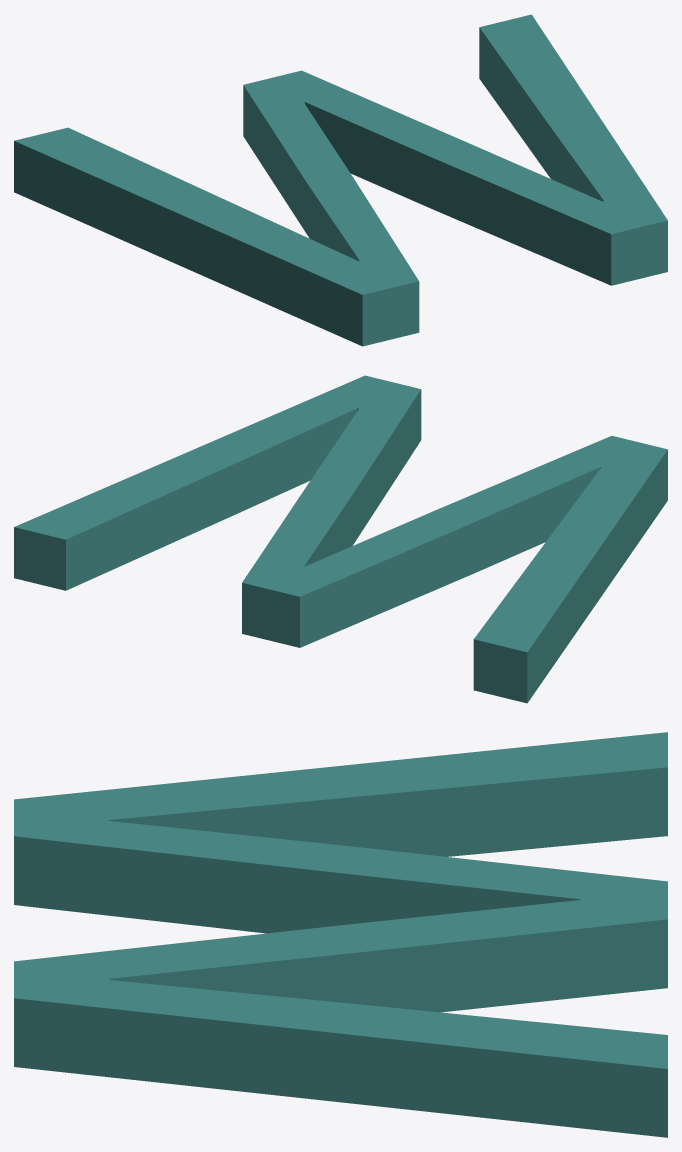
3 renders of one model, top to bottom at view 1: azimuth 30°, elevation 25°; view 2: azimuth 150°, elevation 25°; view 3: azimuth 270°, elevation 25°, orthographic. The views are drawn at different scales.
Parts seen in each view (by area): view 1: W; view 2: W; view 3: W.
Boxes of the visible parts, left/top/right/bottom form: W: left=14, top=14, right=667, bottom=346; W: left=14, top=375, right=667, bottom=703; W: left=14, top=732, right=667, bottom=1137.
Bounding box in the file's own units: 0.2639 × 0.0251 × 0.2165.
